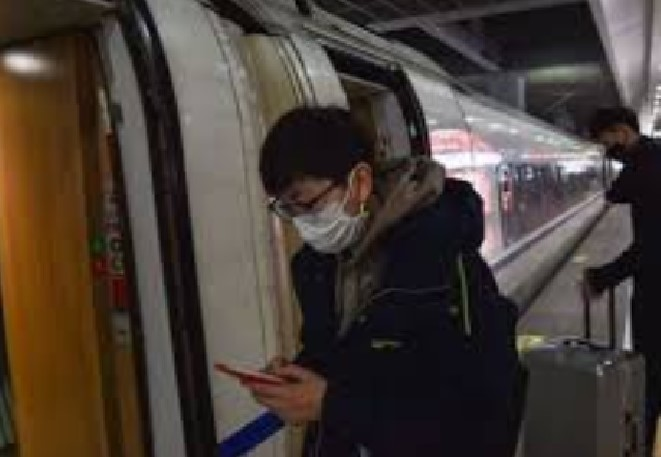face_with_mask: (258, 108, 377, 256), (587, 110, 643, 163)
